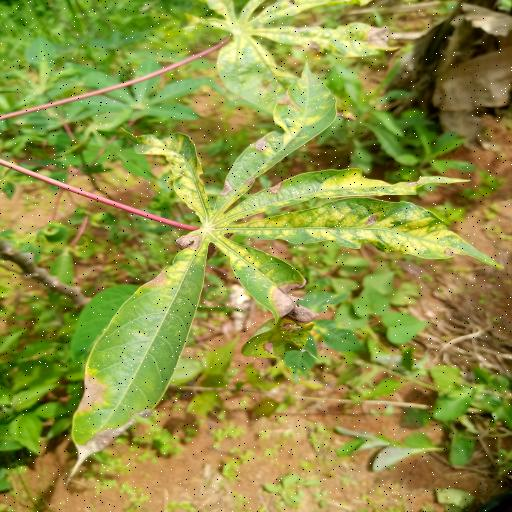Cassava_Brown_Leaf_Spot: (65, 63, 512, 480)
